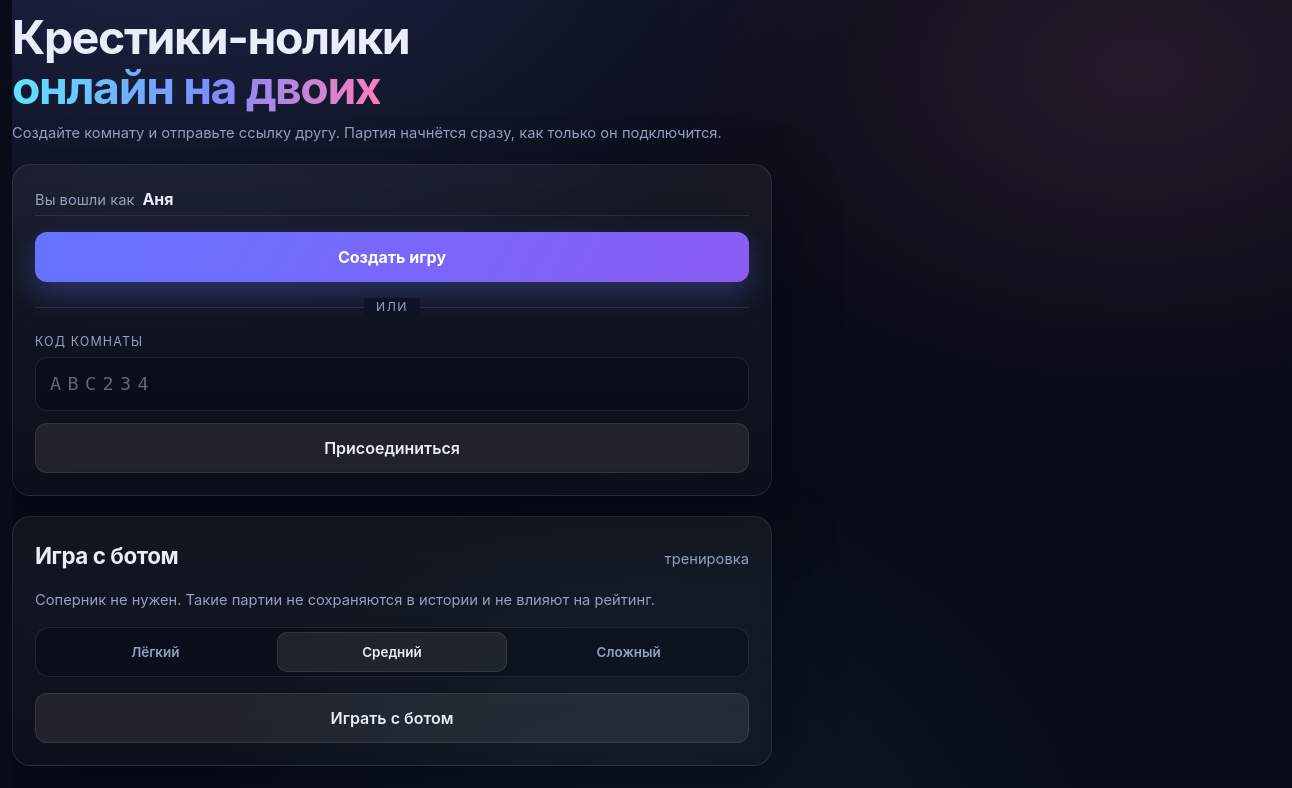
it: HomeView › нормализует код комнаты при вводе
Step 1. Type "abc-234" into the field with placeholder "ABC234" → (392, 384), box top-left (35, 357), bottom-right (749, 411)
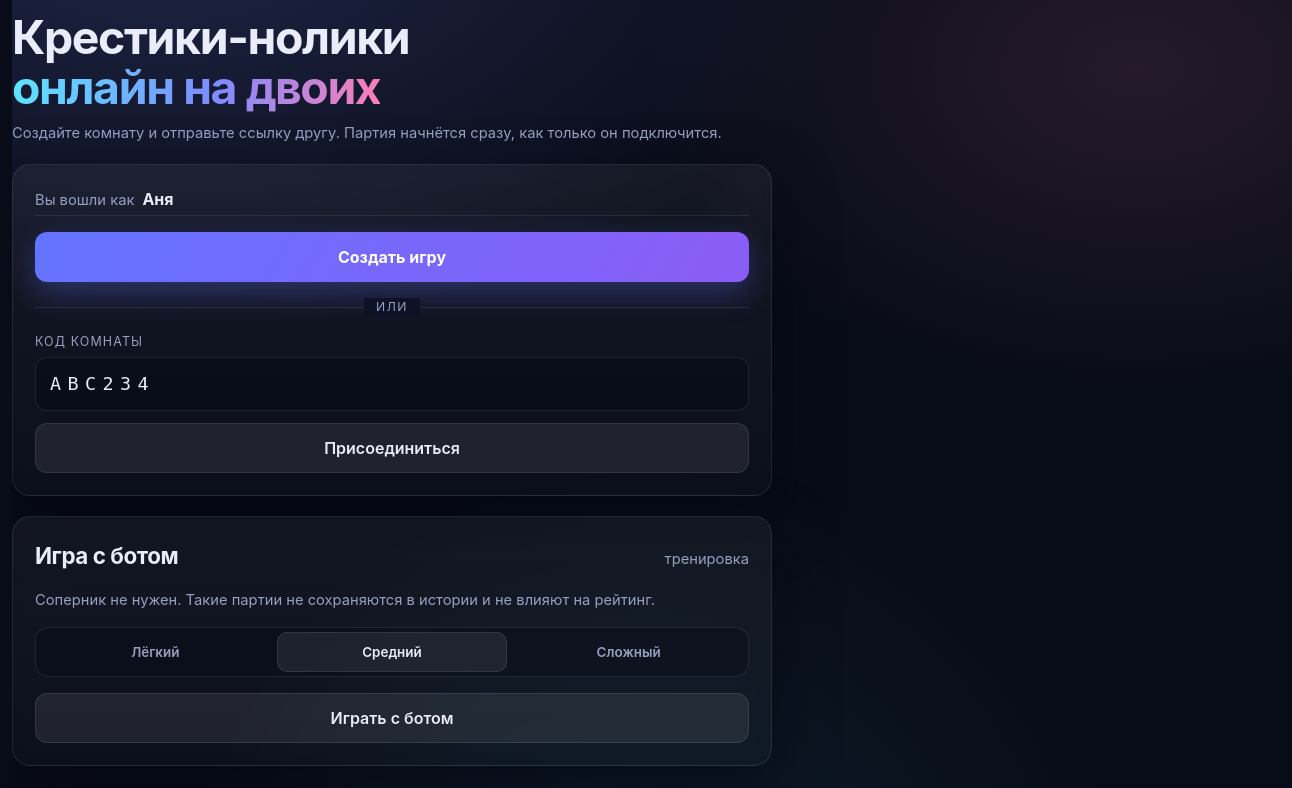
Now the field with placeholder "ABC234" holds "ABC234", box top-left (35, 357), bottom-right (749, 411)
